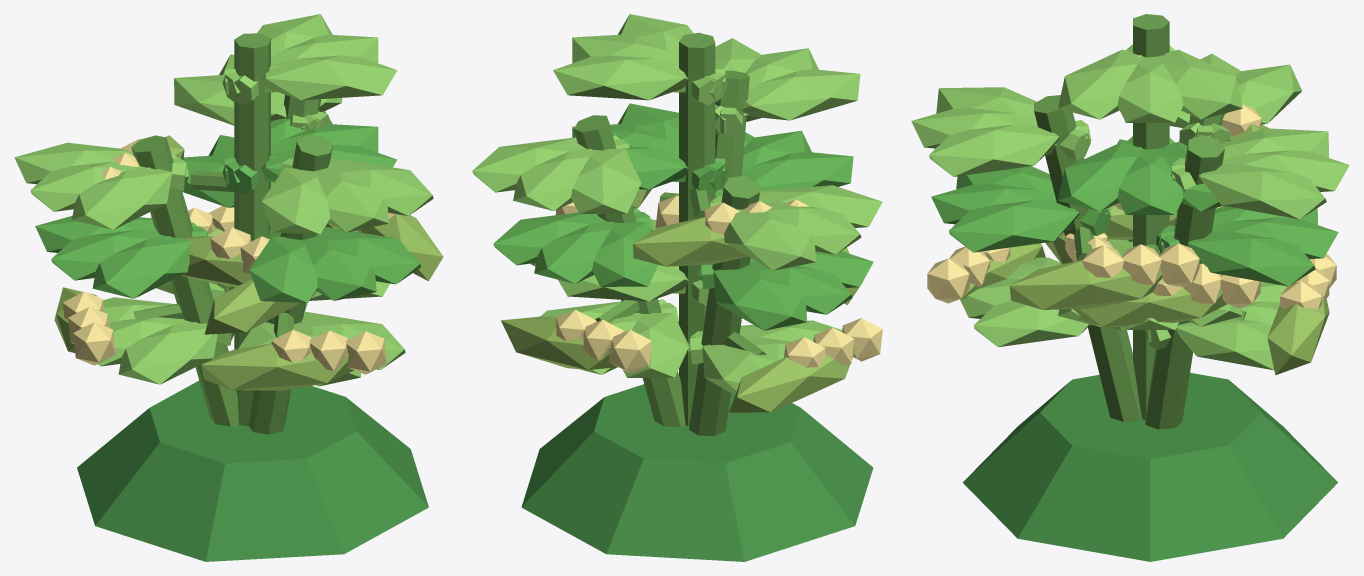
The model's file is Soybean.glb.
3 renders of one model, left to right at view 1: azimuth 30°, elevation 25°; view 2: azimuth 150°, elevation 25°; view 3: azimuth 270°, elevation 25°, orthographic. The views are drawn at different scales.
Parts seen in each view (by area): view 1: Soybean_Base, Soybean_Leaf_00_00_00, Soybean_Leaf_00_01_00, Soybean_PodStem_00_00, Soybean_Pod_00_00, Soybean_MatureBean_00_00_0; view 2: Soybean_Leaf_00_00_00, Soybean_Base, Soybean_Leaf_00_01_00, Soybean_PodStem_00_00, Soybean_Pod_00_00, Soybean_MatureBean_00_00_0; view 3: Soybean_Base, Soybean_Leaf_00_00_00, Soybean_Leaf_00_01_00, Soybean_PodStem_00_00, Soybean_Pod_00_00, Soybean_MatureBean_00_00_0.
Boxes of the visible parts, x1,y1,x2,y2 form: Soybean_Base: (77,380,428,561); Soybean_Leaf_00_00_00: (14,14,433,388); Soybean_Leaf_00_01_00: (35,111,420,302); Soybean_PodStem_00_00: (131,33,332,434); Soybean_Pod_00_00: (54,135,443,390); Soybean_MatureBean_00_00_0: (62,138,403,374); Soybean_Leaf_00_00_00: (472,14,882,395); Soybean_Base: (521,384,873,561); Soybean_Leaf_00_01_00: (493,103,873,330); Soybean_PodStem_00_00: (574,32,766,436); Soybean_Pod_00_00: (501,189,862,412); Soybean_MatureBean_00_00_0: (531,195,882,373); Soybean_Base: (963,372,1337,561); Soybean_Leaf_00_00_00: (911,44,1349,370); Soybean_Leaf_00_01_00: (931,136,1338,286); Soybean_PodStem_00_00: (1034,14,1246,429); Soybean_Pod_00_00: (960,123,1329,375); Soybean_MatureBean_00_00_0: (927,104,1336,309).
Bounding box in the file's own units: 0.7552 × 0.92 × 0.7938.
